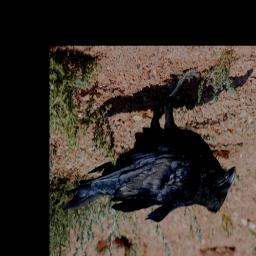Crow: (59, 66, 237, 224)
